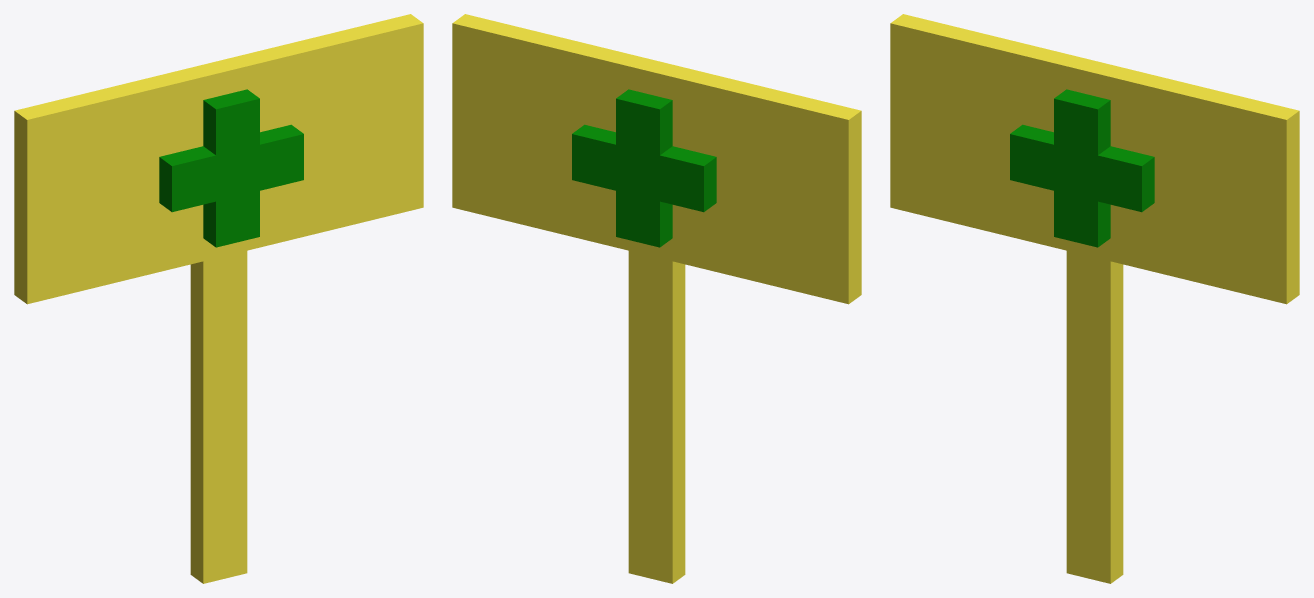
Rendered from PowerHammer.dae.
The picture shows the model from 3 angles, left to right: view 1: azimuth 30°, elevation 25°; view 2: azimuth 150°, elevation 25°; view 3: azimuth 330°, elevation 25°; orthographic projection.
Visible parts, largest first — view 1: PowerHammer; view 2: PowerHammer; view 3: PowerHammer.
Part boxes in pixels (bbox=[...]): PowerHammer: bbox=[14, 14, 423, 583]; PowerHammer: bbox=[452, 14, 861, 583]; PowerHammer: bbox=[890, 14, 1299, 583].
Bounding box in the file's own units: 18 × 22 × 3.
Materials: 1 (1 with a texture image).
